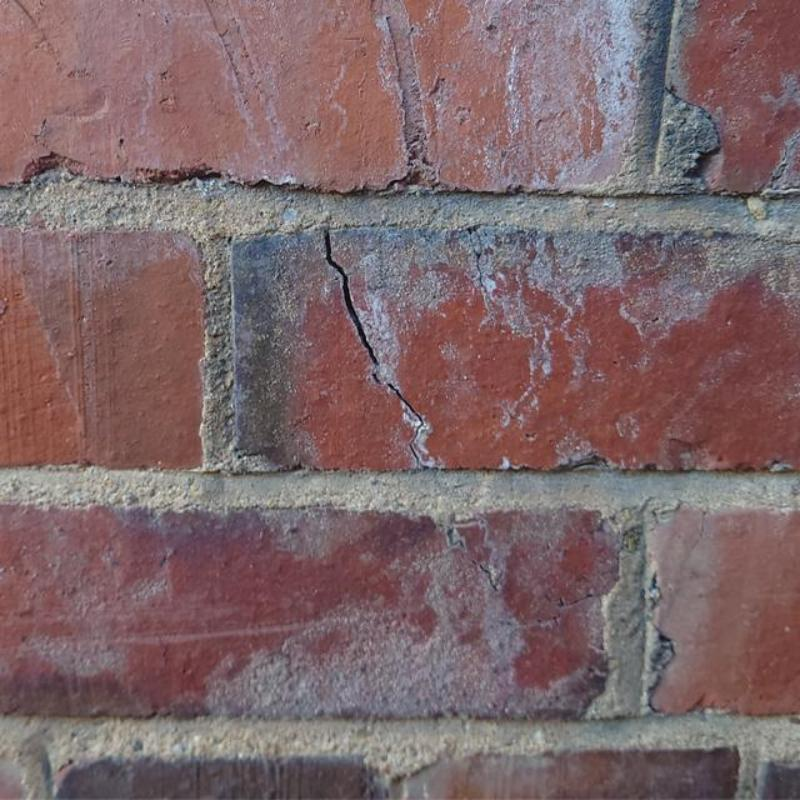crack: (325, 231, 425, 466)
